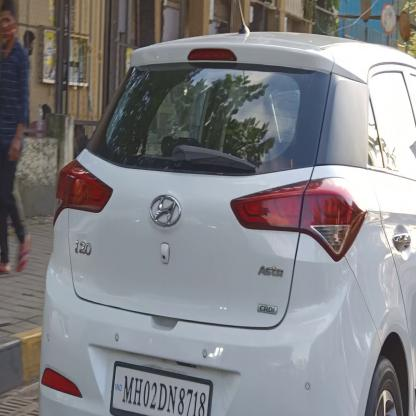license_plate: (112, 366, 210, 416)
